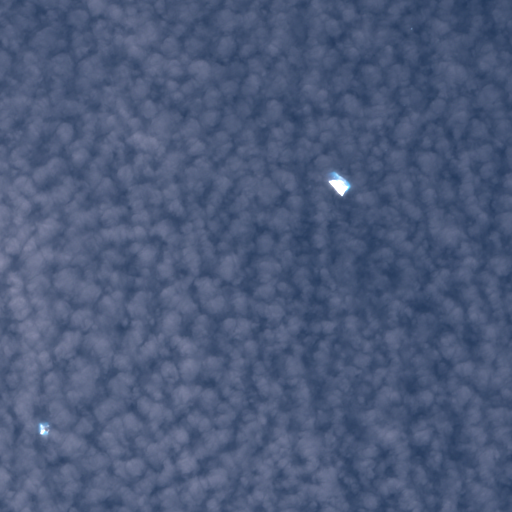Iceberg: (328, 179, 348, 196), (40, 423, 48, 434), (411, 28, 412, 29)
